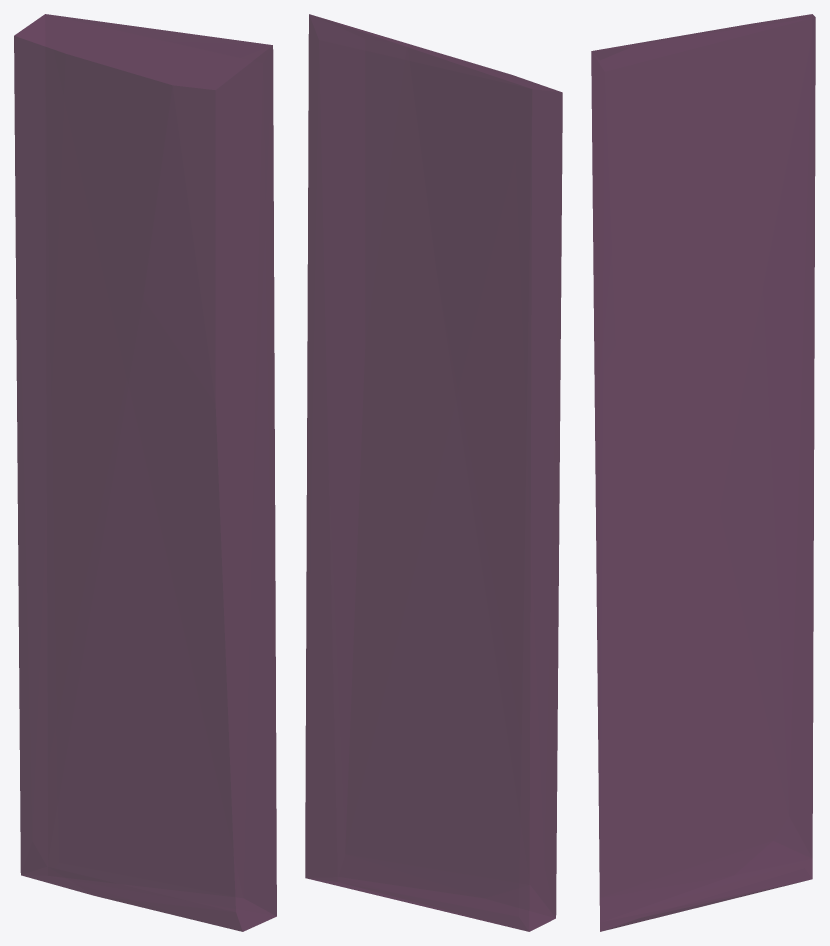
3 views of the same model, side by side, from view 1: azimuth 30°, elevation 25°; view 2: azimuth 210°, elevation 25°; view 3: azimuth 270°, elevation 25° (orthographic). The views are drawn at different scales.
Visible parts, largest first — view 1: Shape_IndexedFaceSet.009_Shape_IndexedFaceSet.12331; view 2: Shape_IndexedFaceSet.009_Shape_IndexedFaceSet.12331; view 3: Shape_IndexedFaceSet.009_Shape_IndexedFaceSet.12331.
Part boxes in pixels (<box>): Shape_IndexedFaceSet.009_Shape_IndexedFaceSet.12331: <box>14,14,276,931</box>; Shape_IndexedFaceSet.009_Shape_IndexedFaceSet.12331: <box>305,14,562,931</box>; Shape_IndexedFaceSet.009_Shape_IndexedFaceSet.12331: <box>591,14,815,931</box>.
Size of the model in its own units: 0.0573 by 0.3088 by 0.0711.
